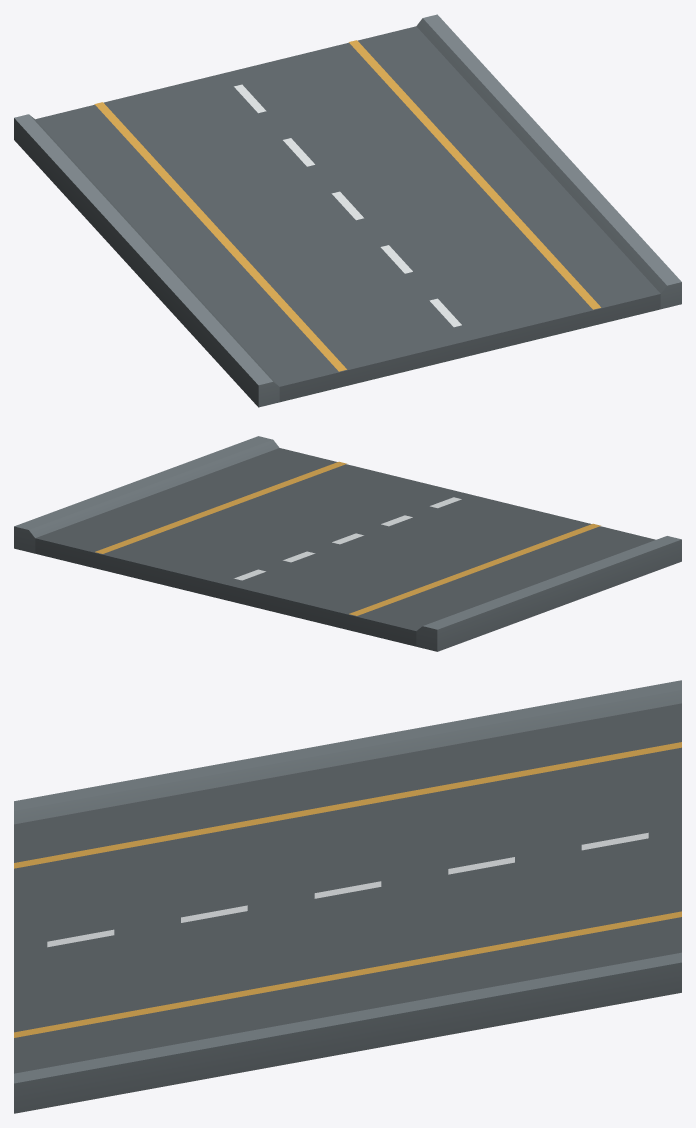
The model's file is road_straight_slope_1.glb.
3 views of the same model, one above another, from view 1: azimuth 30°, elevation 25°; view 2: azimuth 150°, elevation 25°; view 3: azimuth 270°, elevation 25° (orthographic). The views are drawn at different scales.
Parts seen in each view (by area): view 1: road_straight_slope_1; view 2: road_straight_slope_1; view 3: road_straight_slope_1.
Boxes of the visible parts, box(x1,y1,x2,y2) form: road_straight_slope_1: box(14, 14, 681, 407); road_straight_slope_1: box(14, 436, 681, 651); road_straight_slope_1: box(14, 680, 681, 1113).
Size of what is drawn, in the model's own units: 10 by 2.5 by 10.
1 material, 1 textured.
